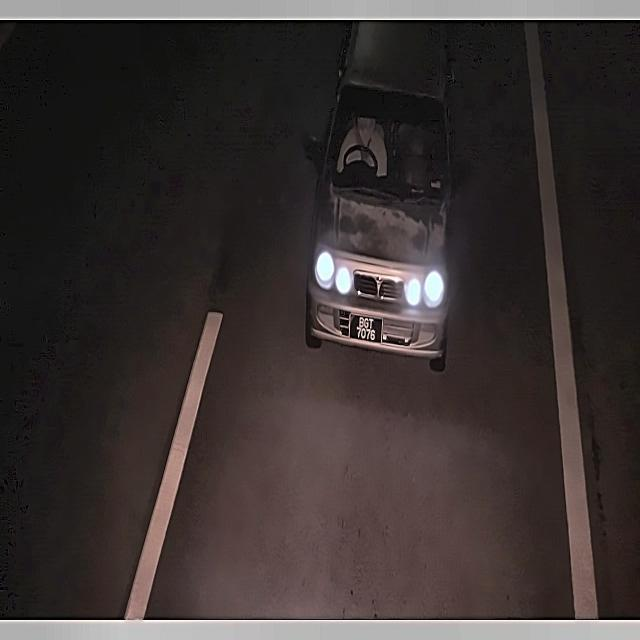car: (345, 309, 386, 345)
